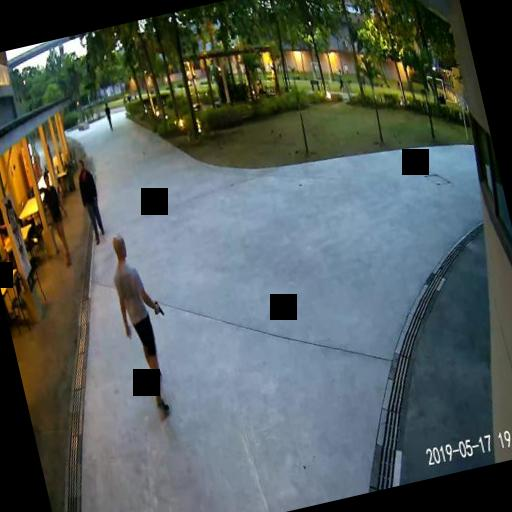Handgun: (150, 298, 164, 318)
